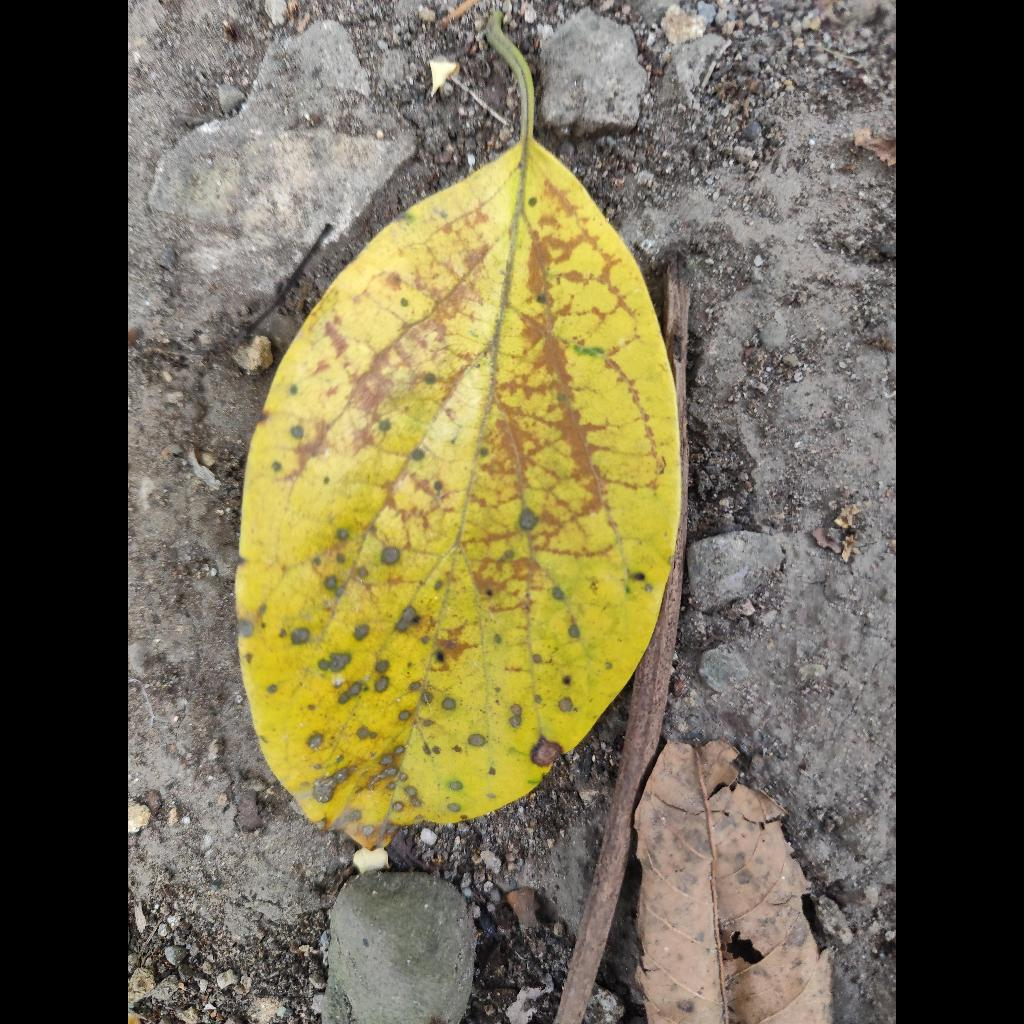nutrient_deficiency: (236, 13, 680, 848)
